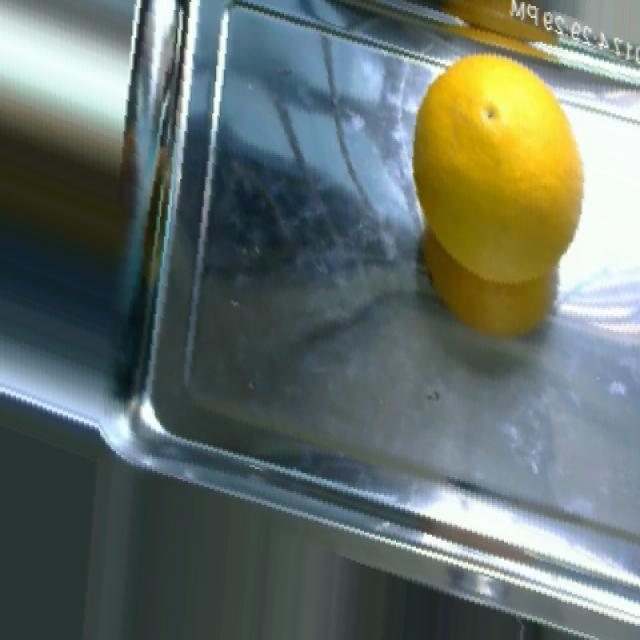Fruit: (401, 44, 600, 354)
